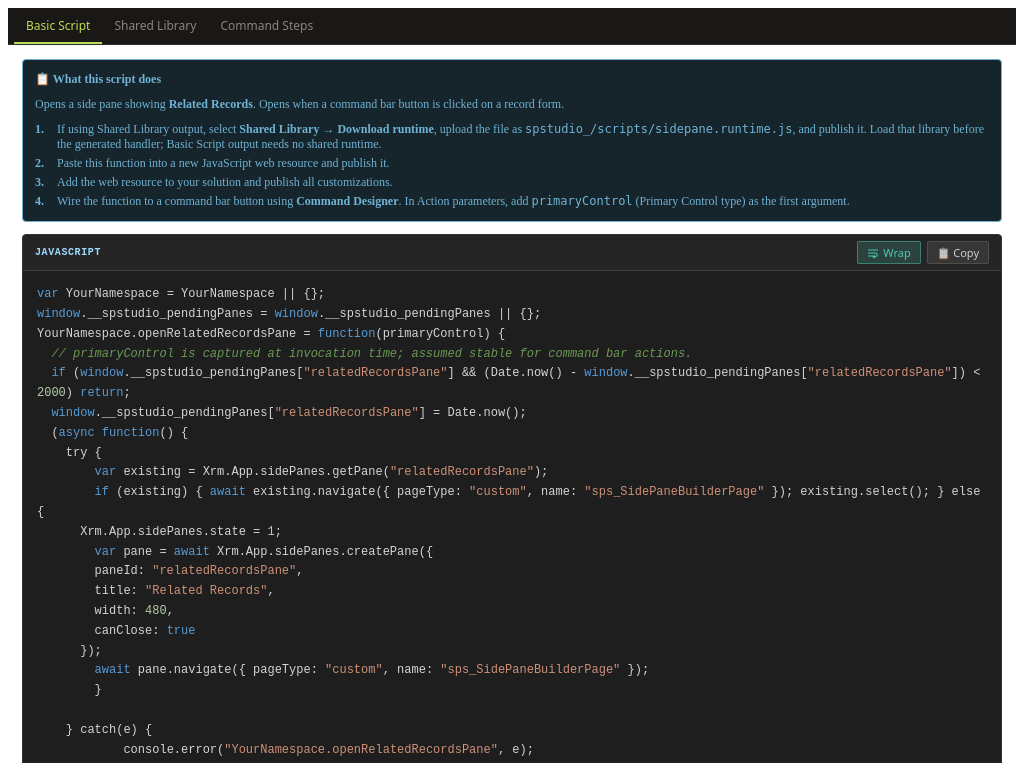
Test: OutputPanel › surfaces lookup errors distinctly from missing-prerequisite state
Step 1. Click the tab "Shared Library" → (155, 26), box [102,8,208,44]
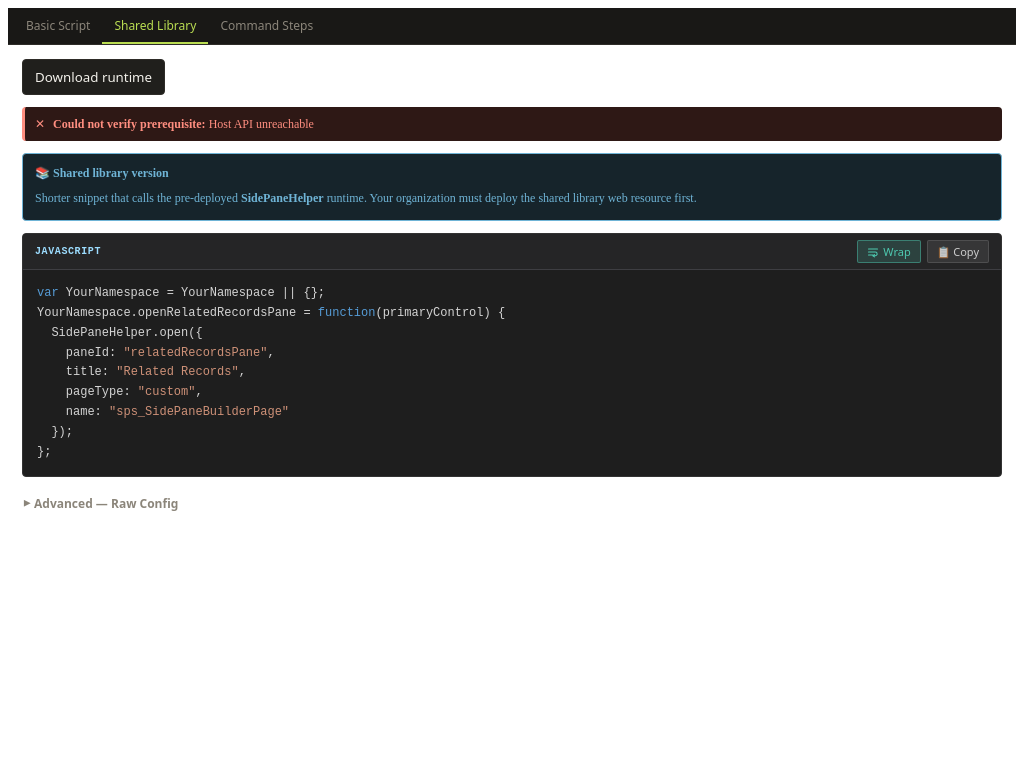
Expected: the text "Could not verify prerequisite" is shown, [53,117,206,131]
Expected: the text "Host API unreachable" is shown, [209,117,314,131]
